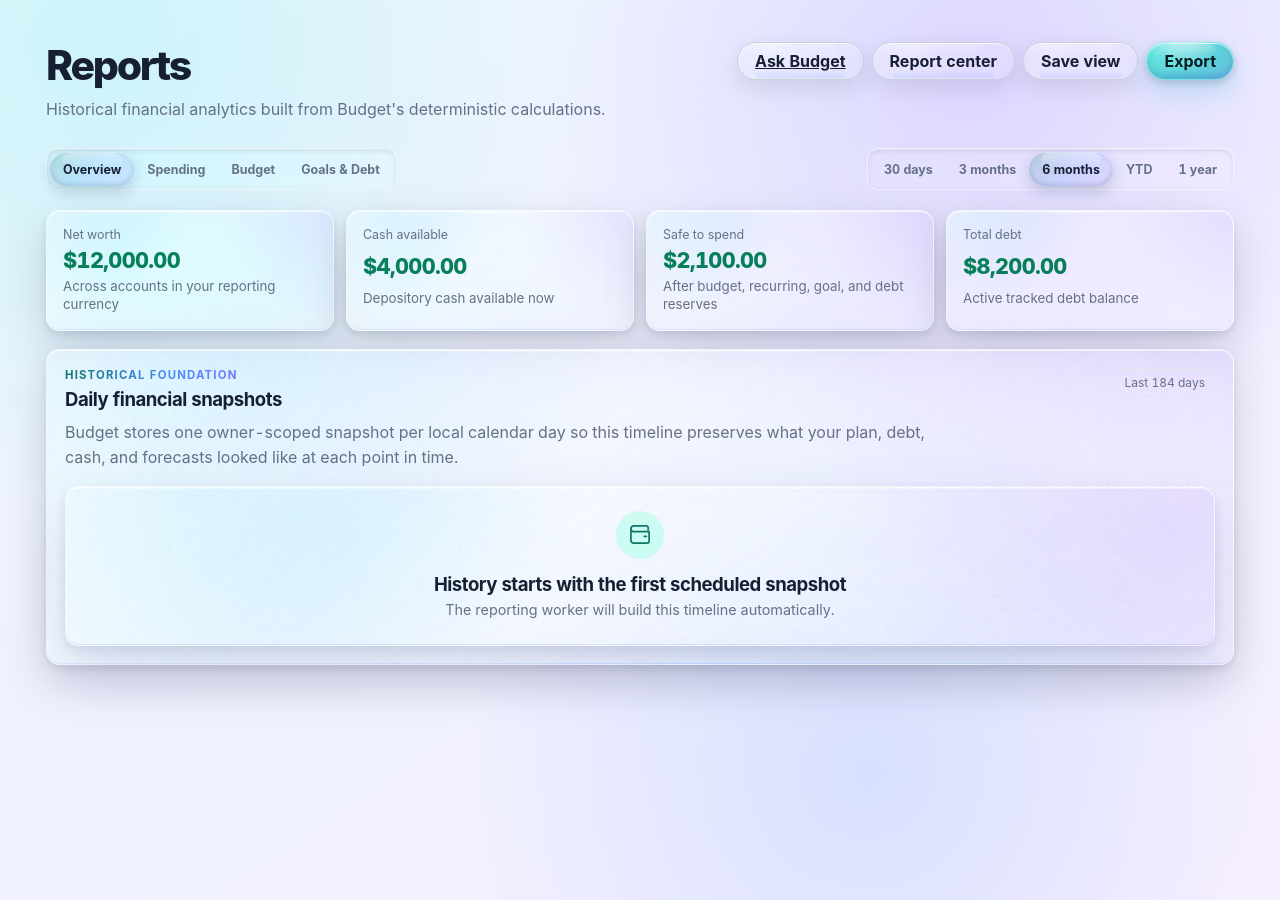
Test: ReportsPage › switches to spending analytics and exposes transaction drill-through
Click the button "Spending": (176, 169) [134,152,218,186]
(page scrolled)
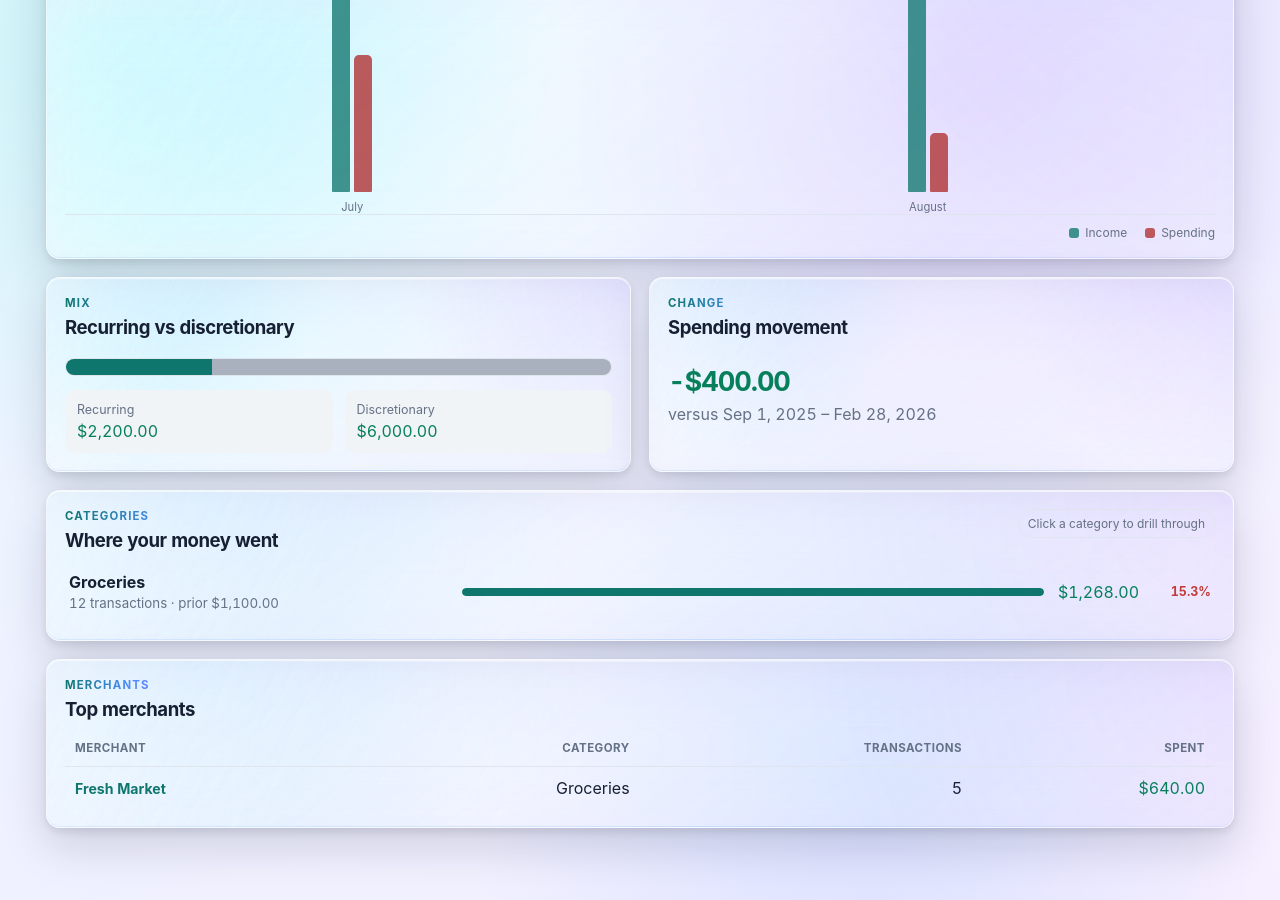
Result: the heading "Where your money went" is shown at [65,529,278,551]
Result: the link "Fresh Market" is shown at [75,780,166,797]
